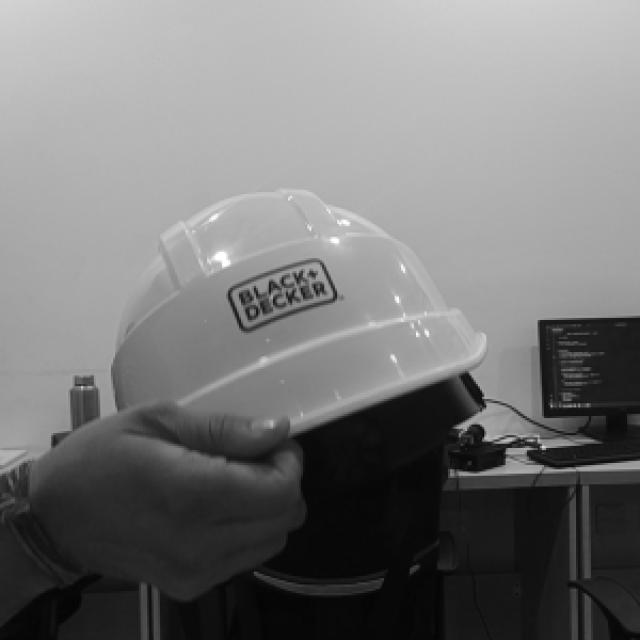safety_helmet: (112, 189, 490, 434)
